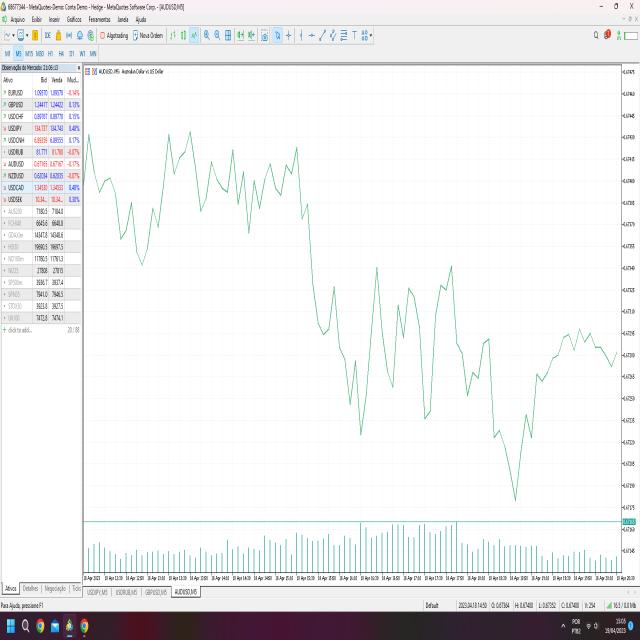fundo_duplo: (335, 303, 380, 455)
oco_inv: (486, 390, 547, 521)
